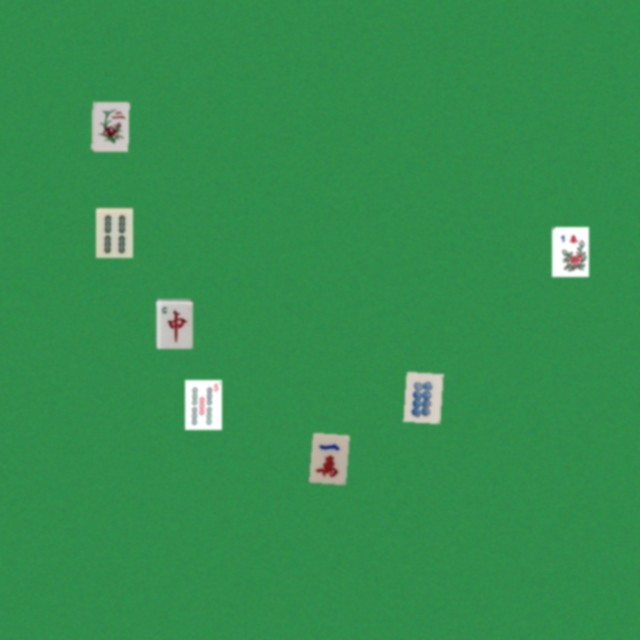tile: (309, 432, 346, 482), (551, 226, 588, 276), (184, 379, 221, 429), (155, 298, 192, 348), (95, 207, 132, 257), (91, 101, 128, 151), (403, 371, 440, 421)
